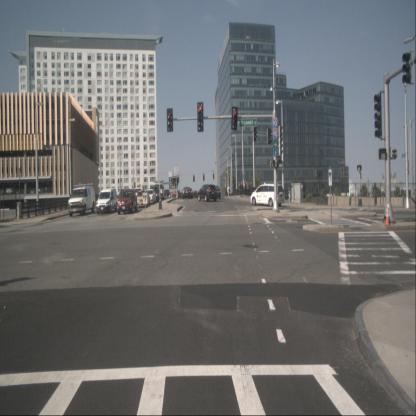human-pedestrian-adult: (244, 180, 247, 196), (241, 182, 244, 197), (247, 182, 250, 197), (240, 182, 243, 197)
movable_object-trafficcone: (384, 204, 390, 227)
vehicle-car: (68, 187, 96, 217), (251, 184, 285, 207), (96, 188, 118, 214), (118, 190, 138, 214), (198, 184, 216, 201), (116, 191, 130, 211), (135, 190, 150, 208), (133, 187, 145, 206), (146, 188, 156, 204), (156, 183, 164, 200), (151, 186, 160, 201), (212, 185, 220, 199), (182, 187, 191, 199), (164, 192, 170, 202), (187, 188, 193, 198)
